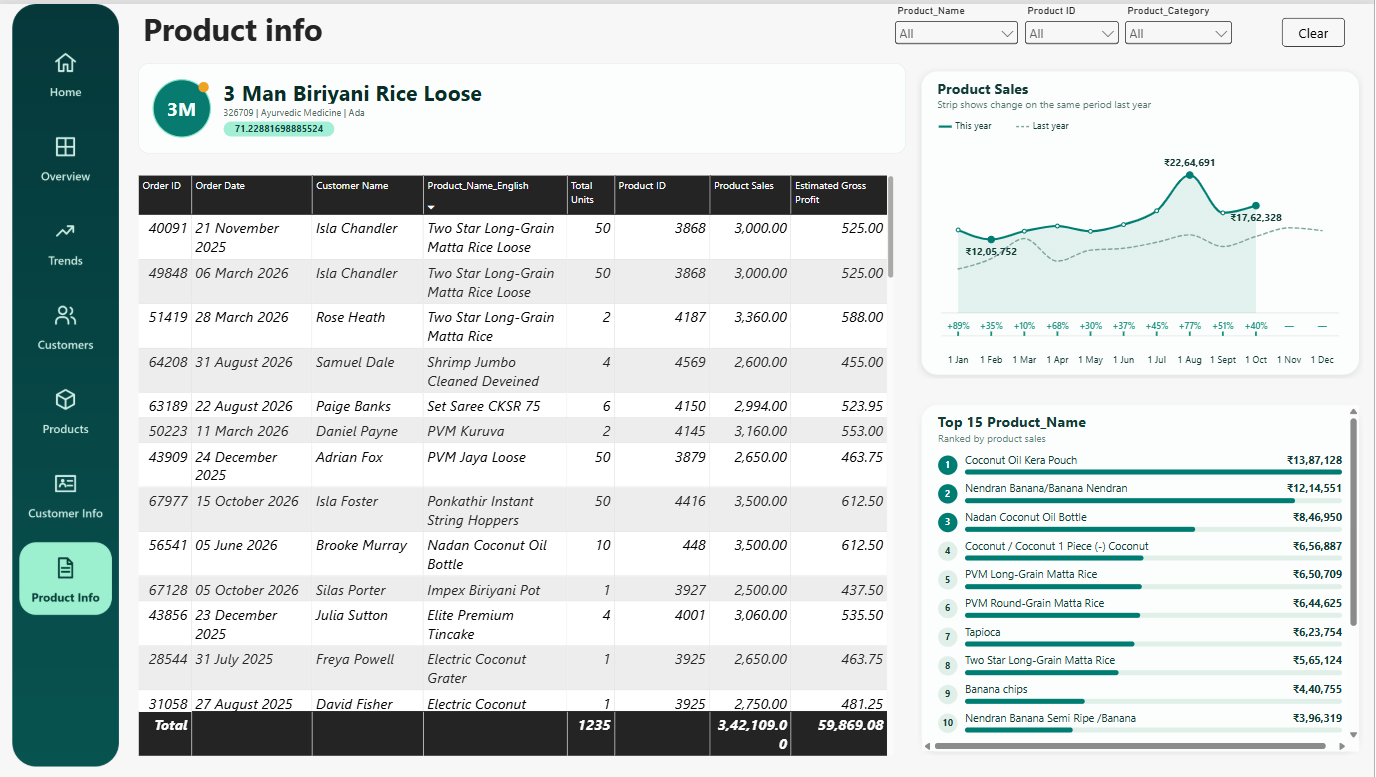

This screenshot's page, from the dashboard's own definition file:
{"tool":"powerbi","page":{"name":"Product info","canvas":[1920,1080],"ordinal":6},"visuals":[{"type":"image","box":[9.2,0,171.2,1063.8],"z":0},{"type":"tableEx","fields":{"Values":["Order_Items.Order ID","Order_Items.Order Date","Order_Items.Customer Name","Order_Items.Product_Name_English","Order_Items.Total Units","Order_Items.Product ID","Order_Items.Product Sales","Order_Items.Estimated Gross Profit"]},"box":[179.1,224.4,1086.8,839.8],"z":1000},{"type":"LineChartPercentStripB582D7C901AF","fields":{"period":["Date.Month Start"],"lastYear":["Order_Items.Product Sales LY"],"value":["Order_Items.Product Sales"]},"box":[1265.9,74.1,654.5,465.2],"z":2000},{"type":"RankedHorizontalBarsD391A8F624BC","fields":{"value":["Order_Items.Product Sales"],"category":["Order_Items.Product_Name_English"]},"box":[1265.9,539.3,654.5,524.9],"z":3000},{"type":"slicer","fields":{"Values":["Order_Items.Product_Category"]},"box":[1568.4,0,158.5,67.9],"z":4000},{"type":"RetailInfoHeader88B5FC91C15046ECA1A7C55AB2F71F9A","fields":{"name":["Min(Order_Items.Product_Name_English)"],"customerName":["Min(Order_Items.Product_Name_Clean)"],"identifier":["CountNonNull(Order_Items.Product ID)"],"category":["Min(Order_Items.Product_Category)"],"subcategory":["Min(Product Lookup.Subcategory)"],"badge":["Bengaluru Store Zones.Average Selling Price"]},"box":[179.1,67.9,1103.3,156.4],"z":5000},{"type":"slicer","fields":{"Values":["Order_Items.Product ID"]},"box":[1428.5,0,140,67.9],"z":6000},{"type":"textbox","box":[202.5,5.5,303.7,79.1],"z":7000},{"type":"shape","box":[60.7,160.1,71.8,64.4],"z":8000},{"type":"shape","box":[62.6,294.5,71.8,46],"z":9000},{"type":"shape","box":[60.7,408.6,64.4,66.3],"z":10000},{"type":"shape","box":[60.7,644.2,64.4,66.3],"z":11000},{"type":"shape","box":[58.9,531.9,68.1,55.2],"z":12000},{"type":"shape","box":[71.8,58.9,53.4,55.2],"z":13000},{"type":"actionButton","box":[1790.8,18.4,88.3,40.5],"z":14000},{"type":"slicer","fields":{"Values":["Order_Items.Product_Name_English"]},"box":[1247.3,0,181.1,67.9],"z":15000}]}

Visuals, with their boxes on the page's 1920x1080 design canvas (x1, y1, x2, y2). These are canvas units, not pixel positions in the 1376x777 screenshot, which may show the page scaled, cropped or inside an application window:
image: Rect(9, 0, 180, 1064)
tableEx - Order_Items.Order ID x Order_Items.Order Date: Rect(179, 224, 1266, 1064)
LineChartPercentStripB582D7C901AF - Date.Month Start x Order_Items.Product Sales LY: Rect(1266, 74, 1920, 539)
RankedHorizontalBarsD391A8F624BC - Order_Items.Product Sales x Order_Items.Product_Name_English: Rect(1266, 539, 1920, 1064)
slicer - Order_Items.Product_Category: Rect(1568, 0, 1727, 68)
RetailInfoHeader88B5FC91C15046ECA1A7C55AB2F71F9A - Min(Order_Items.Product_Name_English) x Min(Order_Items.Product_Name_Clean): Rect(179, 68, 1282, 224)
slicer - Order_Items.Product ID: Rect(1428, 0, 1568, 68)
textbox: Rect(202, 6, 506, 85)
shape: Rect(61, 160, 132, 224)
shape: Rect(63, 294, 134, 340)
shape: Rect(61, 409, 125, 475)
shape: Rect(61, 644, 125, 710)
shape: Rect(59, 532, 127, 587)
shape: Rect(72, 59, 125, 114)
actionButton: Rect(1791, 18, 1879, 59)
slicer - Order_Items.Product_Name_English: Rect(1247, 0, 1428, 68)
